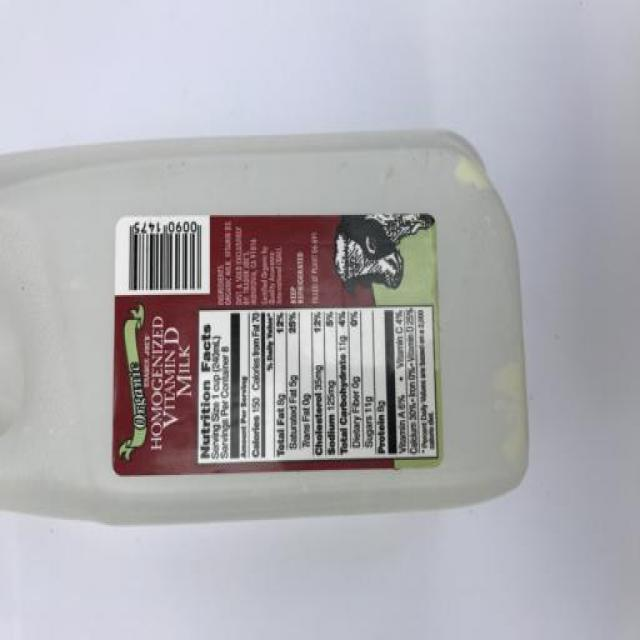plastic_bottle: (1, 113, 537, 528)
